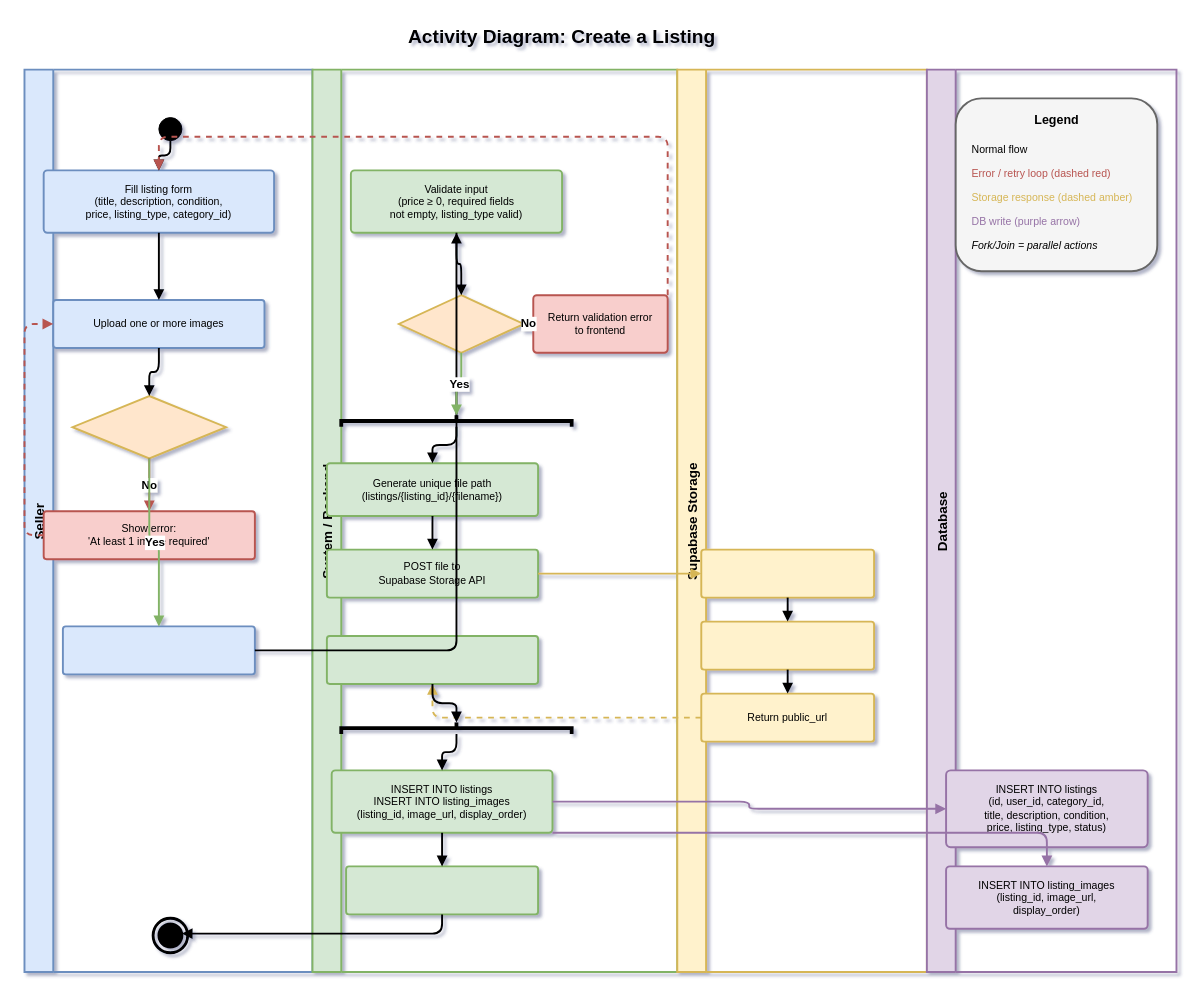
Image size: 1199x995. Some labels were removed from this diagram. Each missing label, with the centre of its shape:
"At least 1 image selected?" belongs at pixel 149 427.
"Input valid?" belongs at pixel 460 323.
"Receive image file" belongs at pixel 787 573.
"Receive public_url from Storage bucket" belongs at pixel 432 659.
"Return 201 Created { listing_id, status: active }" belongs at pixel 442 890.
"Store file in listing-images bucket" belongs at pixel 787 645.
"Submit listing form" belongs at pixel 158 650.
